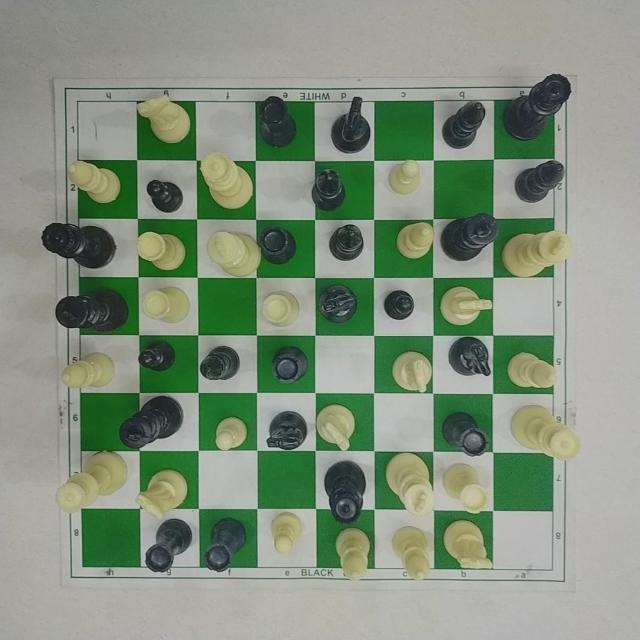black-bishop: (433, 92, 492, 155), (509, 155, 575, 209), (191, 338, 249, 396), (300, 165, 356, 217), (324, 219, 372, 272)
black-king: (50, 276, 132, 337), (116, 393, 184, 459), (433, 208, 501, 266)
black-knight: (323, 83, 371, 158), (443, 328, 493, 386), (312, 279, 366, 331), (264, 405, 310, 457)
black-pawn: (130, 333, 186, 386), (378, 276, 426, 330), (147, 172, 190, 218)
black-queen: (497, 68, 579, 154), (39, 215, 123, 273), (317, 459, 372, 523)
black-rook: (131, 516, 192, 579), (249, 86, 299, 158), (438, 402, 496, 458), (199, 514, 251, 576), (268, 343, 320, 391), (257, 221, 301, 277)
white-bishop: (384, 516, 442, 586), (64, 154, 129, 210), (325, 520, 374, 587), (53, 351, 125, 396), (499, 343, 560, 395), (383, 212, 440, 264)
white-king: (496, 215, 586, 281), (376, 443, 437, 519), (197, 228, 274, 281)
white-knight: (121, 86, 202, 154), (132, 458, 198, 521), (433, 518, 499, 577), (313, 399, 365, 463), (436, 280, 500, 330), (384, 346, 436, 396)
white-pawn: (262, 505, 314, 557), (207, 408, 260, 457), (384, 147, 424, 201)
white-queen: (46, 442, 133, 519), (501, 398, 588, 470), (193, 146, 267, 220)
white-rook: (435, 458, 497, 517), (136, 278, 198, 330), (127, 226, 191, 270), (255, 289, 303, 335)
